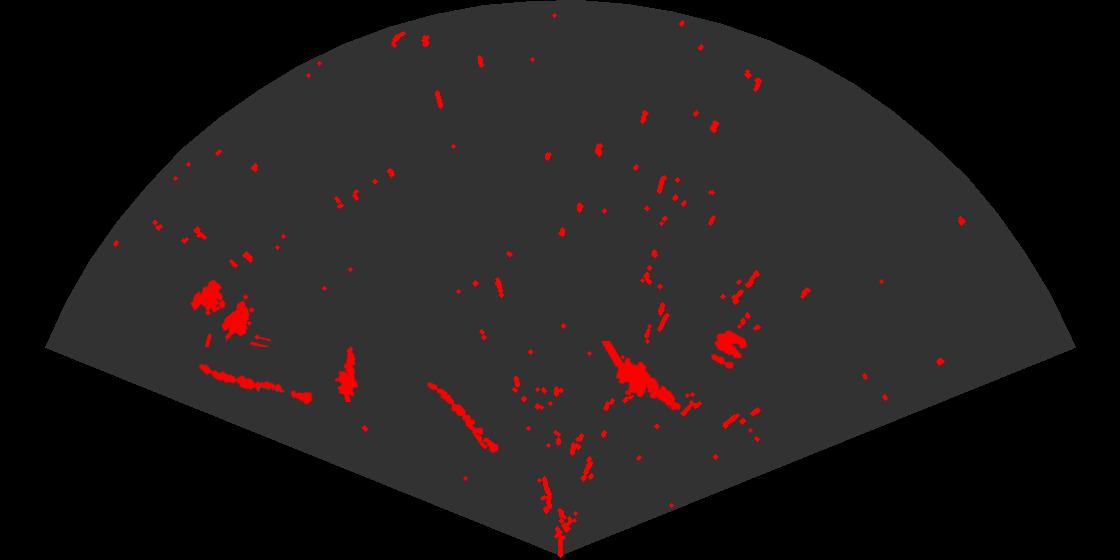ball: (709, 328, 749, 371)
cage: (188, 278, 271, 347)
chain: (426, 381, 500, 455), (197, 362, 315, 407)
frogman: (602, 341, 683, 412), (332, 344, 360, 402)
